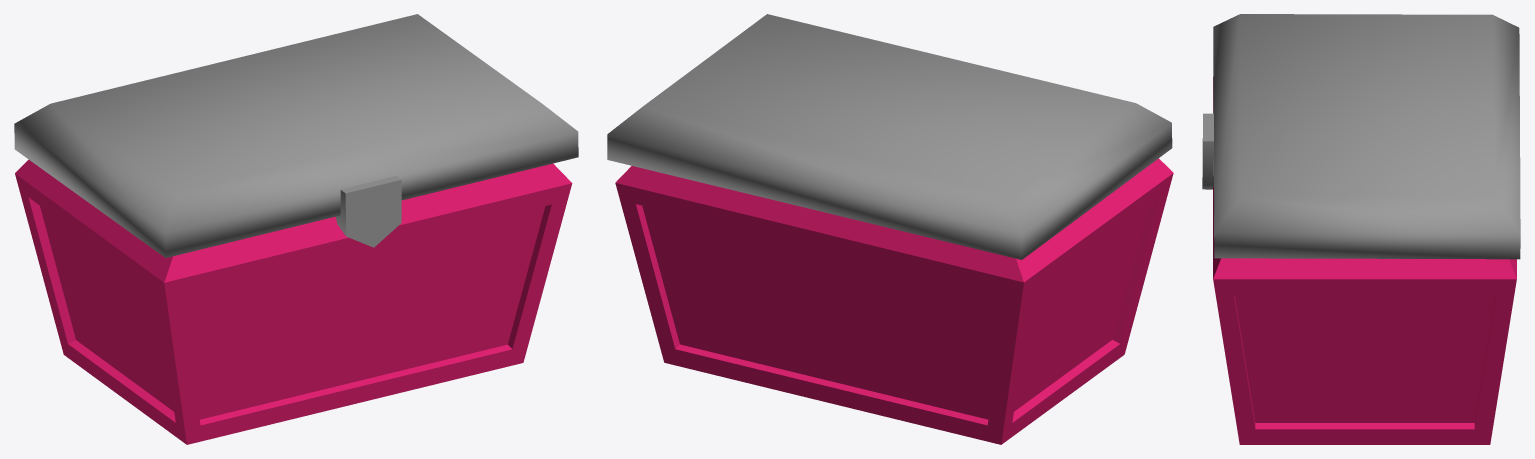
File: cofreSubir.FBX
3 views of the same model, side by side, from view 1: azimuth 30°, elevation 25°; view 2: azimuth 150°, elevation 25°; view 3: azimuth 270°, elevation 25° (orthographic).
Visible parts, largest first — view 1: tapa-abajo, tapa; view 2: tapa-abajo, tapa; view 3: tapa, tapa-abajo.
Boxes of the visible parts, bbox=[...] form: tapa-abajo: bbox=[15, 159, 572, 444]; tapa: bbox=[14, 14, 578, 257]; tapa-abajo: bbox=[615, 158, 1173, 444]; tapa: bbox=[607, 14, 1172, 259]; tapa: bbox=[1202, 14, 1520, 259]; tapa-abajo: bbox=[1213, 77, 1516, 444].
Size of the model in its own units: 23.57 by 13.8 by 15.4.
